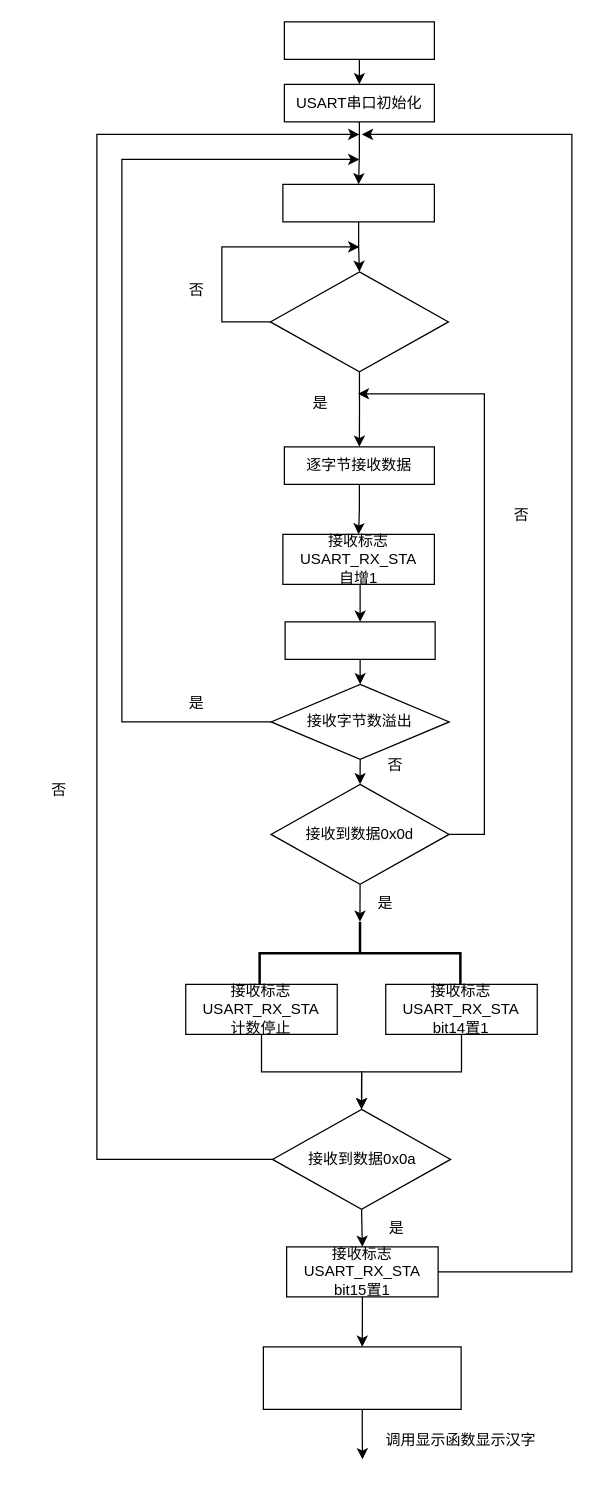
Image size: 604x1491. Some labels were removed from this diagram. The shapes that lost their labels are listed below. From the top down, each one's centre as x and y in pixels, then its label:
(x=358, y=40): GPIO端口设置
(x=358, y=202): 接收标志USART_RX_STA置零
(x=358, y=321): 接收串口RXD收到数据
(x=359, y=640): 数据传入接收缓冲区
(x=361, y=1377): 单片机读取缓冲区 识别标志位更改滚动方式 根据下标取出字模显示汉字
